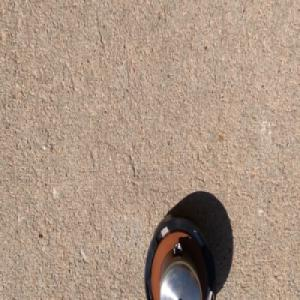FuelCap: (141, 208, 217, 300)
